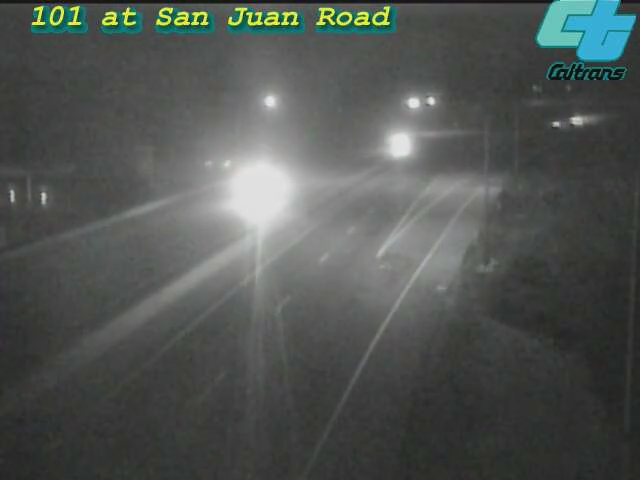vehicle: (212, 152, 292, 232), (367, 122, 417, 172), (561, 94, 611, 144), (533, 97, 583, 147)
